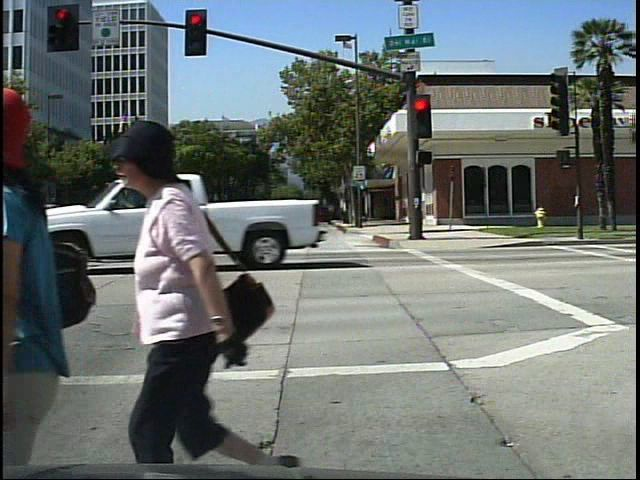person: (111, 108, 292, 470), (0, 83, 108, 470)
